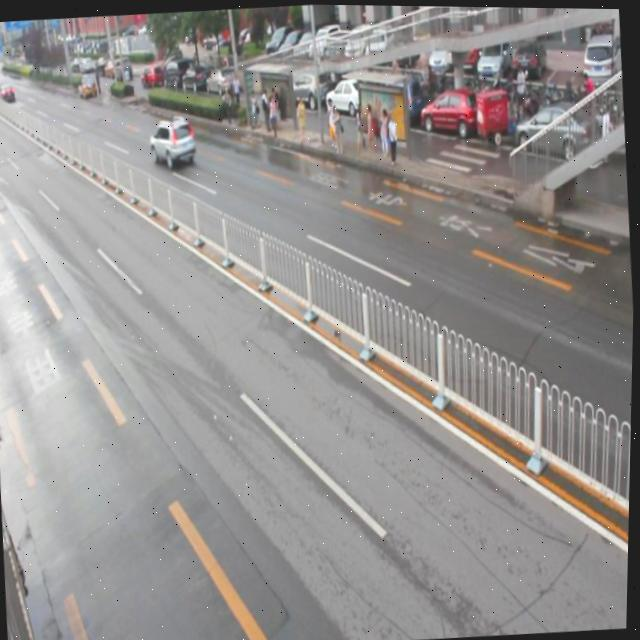car: (147, 112, 197, 171)
